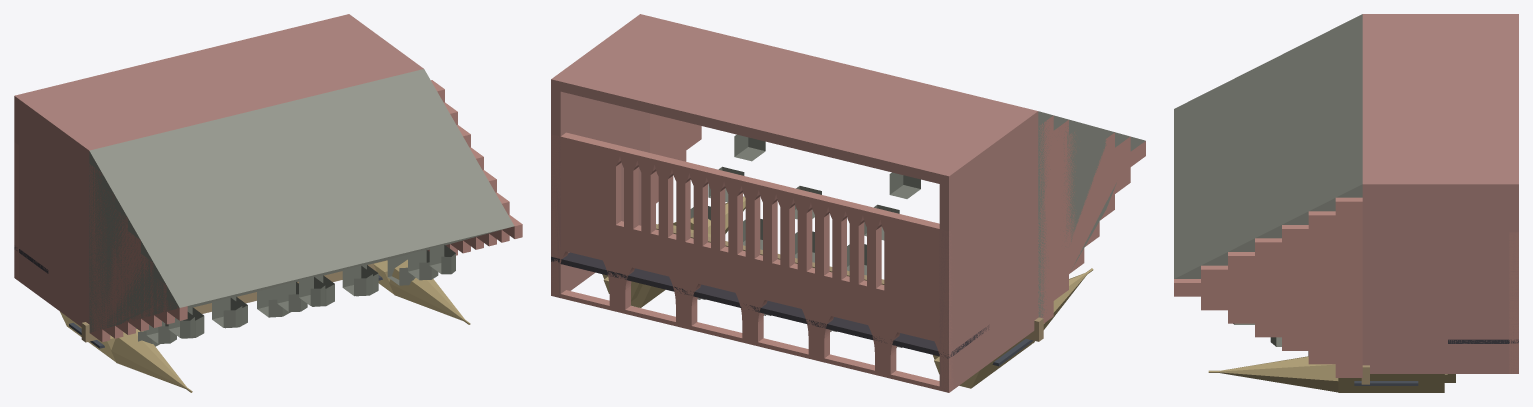
Rendered from kaufhaus_measured.glb.
3 renders of one model, left to right at view 1: azimuth 30°, elevation 25°; view 2: azimuth 150°, elevation 25°; view 3: azimuth 270°, elevation 25°, orthographic. The views are drawn at different scales.
Visible parts, largest first — view 1: dach, waende, giebel, gauben, erker, cornice, fassade; view 2: waende, fassade, giebel, dach, laube, gauben, erker, cornice; view 3: waende, dach, giebel, erker, fassade, laube.
Boxes of the visible parts, bbox=[...] form: dach: bbox=[89, 69, 514, 332]; waende: bbox=[14, 14, 423, 326]; giebel: bbox=[89, 80, 522, 342]; gauben: bbox=[136, 244, 455, 346]; erker: bbox=[60, 259, 470, 392]; cornice: bbox=[81, 260, 387, 342]; fassade: bbox=[14, 142, 18, 280]; waende: bbox=[551, 14, 1038, 392]; fassade: bbox=[551, 132, 953, 392]; giebel: bbox=[650, 113, 1145, 323]; dach: bbox=[1038, 111, 1145, 318]; laube: bbox=[551, 252, 988, 358]; gauben: bbox=[690, 134, 920, 275]; erker: bbox=[602, 196, 1093, 388]; cornice: bbox=[656, 224, 1043, 341]; waende: bbox=[1362, 14, 1518, 373]; dach: bbox=[1174, 14, 1362, 278]; giebel: bbox=[1174, 197, 1362, 377]; erker: bbox=[1208, 356, 1455, 392]; fassade: bbox=[1509, 232, 1518, 373]; laube: bbox=[1448, 339, 1518, 343].
Size of the model in its own units: 25.9 by 15.21 by 21.4.
